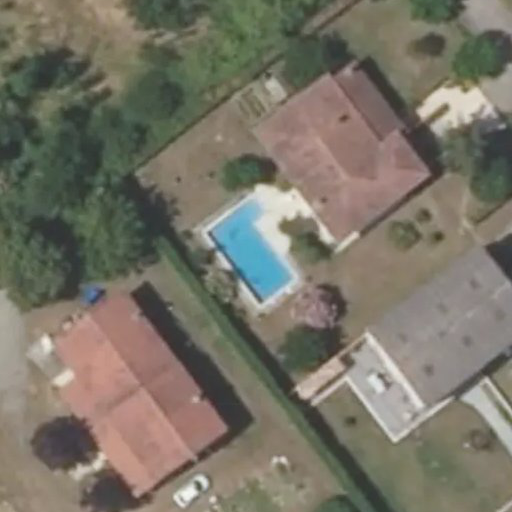pool: (210, 225, 315, 258)
